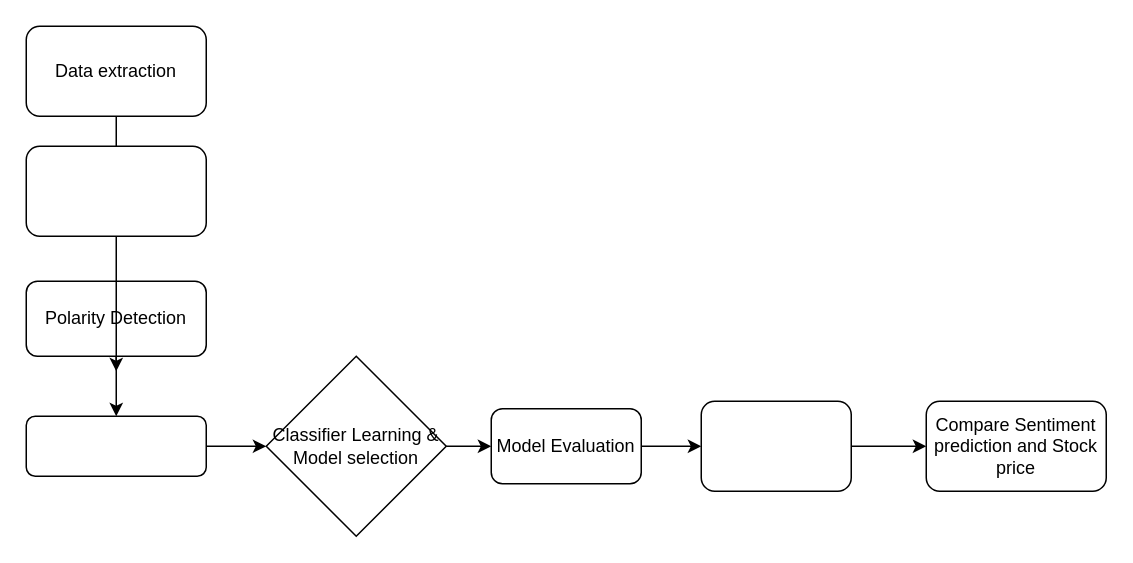
This 1133x563 diagram has some shape labels left out. Here are the shapes that lost their labels. From the top down, the centre of each, then its label:
At point 115,190: "Test Processing".
At point 115,445: "Document Representation".
At point 775,445: "Plot timeseries graph".
